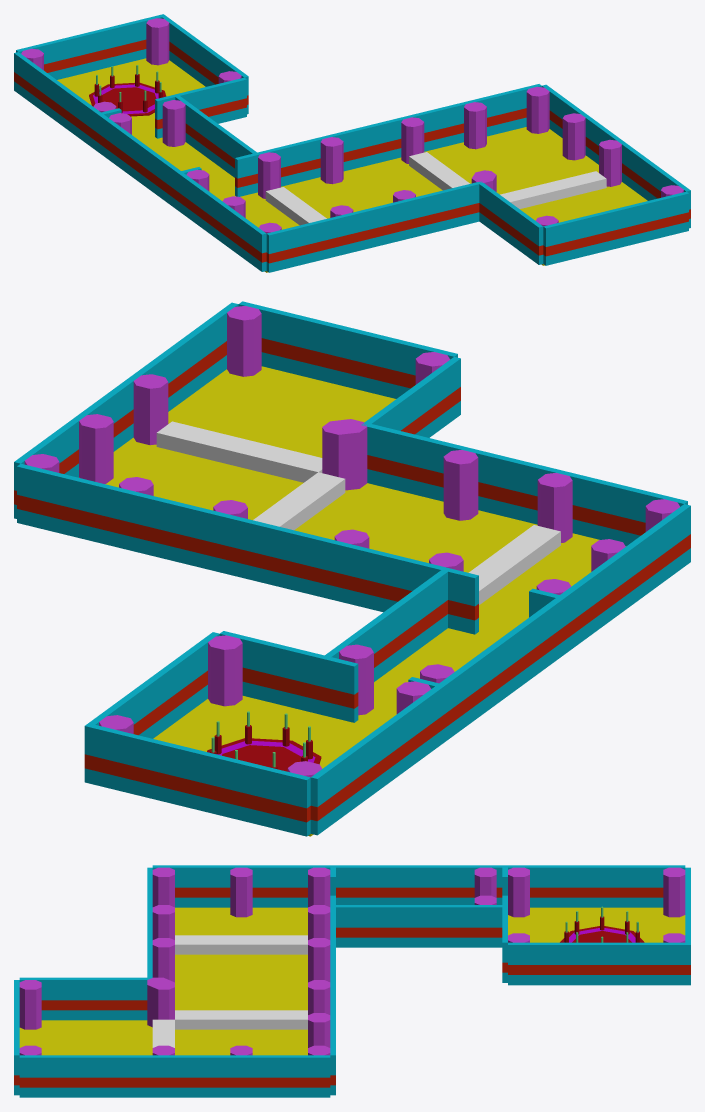
The model's file is Scenery1.fbx.
The picture shows the model from 3 angles, top to bottom: view 1: azimuth 30°, elevation 25°; view 2: azimuth 150°, elevation 25°; view 3: azimuth 270°, elevation 25°; orthographic projection. The views are drawn at different scales.
Visible parts, largest first — view 1: Floor_B.001, Floor_B.002, Wall_B.030, Floor_B.005, Floor_B, Floor_B.004, Cube, Wall_B.016, Wall_B.009, Wall_B.007, Wall_B.036, Wall_B.035 (+54 smaller); view 2: Floor_B, Floor_B.002, Wall_B.030, Floor_B.001, Floor_B.005, Cube, Floor_B.003, Floor_B.004, Wall_B.048, Wall_B.017, Wall_B.007, Wall_B.018 (+54 smaller); view 3: Floor_B.002, Wall_B.030, Floor_B, Floor_B.005, Floor_B.003, Floor_B.001, Cube.002, Cube.001, Wall_B.054, Wall_B.055, Wall_B.056, Wall_B.045 (+38 smaller).
Boxes of the visible parts, bbox=[...] form: Floor_B.001: bbox=[399, 127, 623, 194]; Floor_B.002: bbox=[256, 158, 442, 218]; Wall_B.030: bbox=[179, 173, 266, 271]; Floor_B.005: bbox=[57, 58, 205, 140]; Floor_B: bbox=[520, 183, 647, 265]; Floor_B.004: bbox=[140, 137, 235, 200]; Cube: bbox=[500, 171, 606, 208]; Wall_B.016: bbox=[266, 225, 304, 272]; Wall_B.009: bbox=[543, 218, 581, 265]; Wall_B.007: bbox=[615, 200, 653, 248]; Wall_B.036: bbox=[374, 198, 412, 246]; Wall_B.035: bbox=[338, 207, 376, 255]; Floor_B: bbox=[168, 366, 395, 457]; Floor_B.002: bbox=[294, 483, 575, 572]; Wall_B.030: bbox=[560, 504, 690, 652]; Floor_B.001: bbox=[79, 437, 348, 520]; Floor_B.005: bbox=[153, 696, 376, 836]; Cube: bbox=[156, 421, 322, 482]; Floor_B.003: bbox=[479, 534, 599, 637]; Floor_B.004: bbox=[355, 628, 501, 728]; Wall_B.048: bbox=[253, 764, 310, 836]; Wall_B.017: bbox=[232, 516, 289, 588]; Wall_B.007: bbox=[292, 314, 349, 386]; Wall_B.018: bbox=[286, 529, 343, 601]; Floor_B.002: bbox=[175, 954, 307, 1010]; Wall_B.030: bbox=[152, 865, 330, 907]; Floor_B: bbox=[19, 1020, 152, 1055]; Floor_B.005: bbox=[508, 907, 685, 942]; Floor_B.003: bbox=[175, 907, 307, 935]; Floor_B.001: bbox=[175, 1029, 307, 1055]; Cube.002: bbox=[175, 935, 307, 954]; Cube.001: bbox=[175, 1010, 307, 1029]; Wall_B.054: bbox=[508, 942, 557, 985]; Wall_B.055: bbox=[557, 942, 602, 985]; Wall_B.056: bbox=[602, 942, 646, 985]; Wall_B.045: bbox=[64, 977, 108, 1020].
Size of the model in its own units: 4100 by 500 by 6100.
